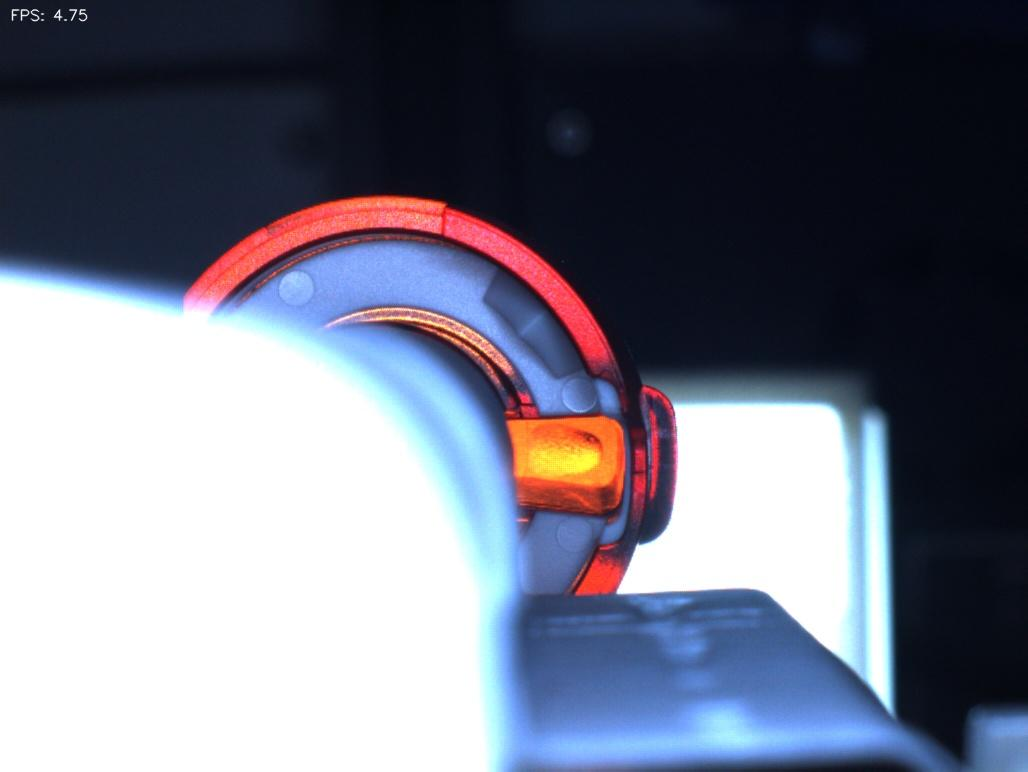Retassure: (518, 419, 610, 486)
